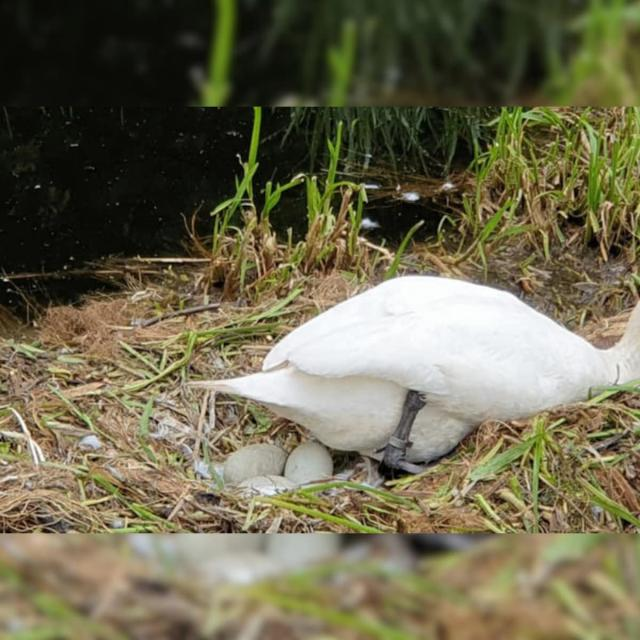swan: (190, 276, 640, 473)
